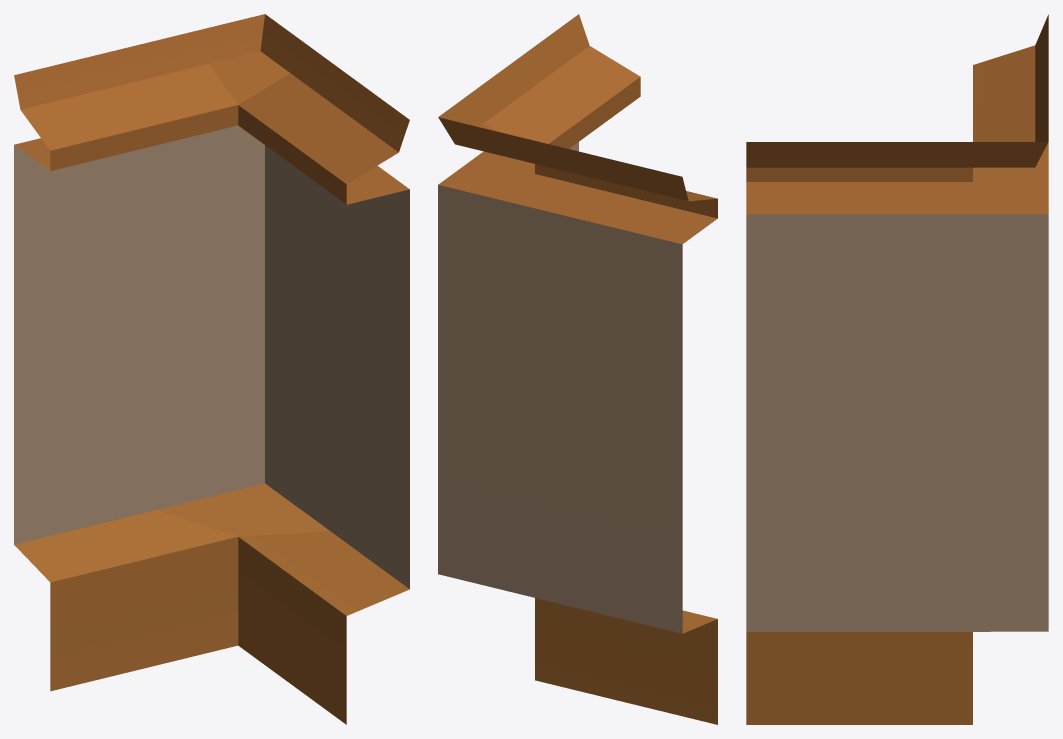
The model's file is corner_wall_outside_plain_B.fbx.
The picture shows the model from 3 angles, left to right: view 1: azimuth 30°, elevation 25°; view 2: azimuth 150°, elevation 25°; view 3: azimuth 270°, elevation 25°; orthographic projection. The views are drawn at different scales.
Parts seen in each view (by area): view 1: corner_wall_outside_plain_B; view 2: corner_wall_outside_plain_B; view 3: corner_wall_outside_plain_B.
Boxes of the visible parts, x1,y1,x2,y2 form: corner_wall_outside_plain_B: (14, 14, 409, 724); corner_wall_outside_plain_B: (438, 14, 717, 724); corner_wall_outside_plain_B: (746, 14, 1048, 724).
Bounding box in the file's own units: 134 × 300 × 133.
